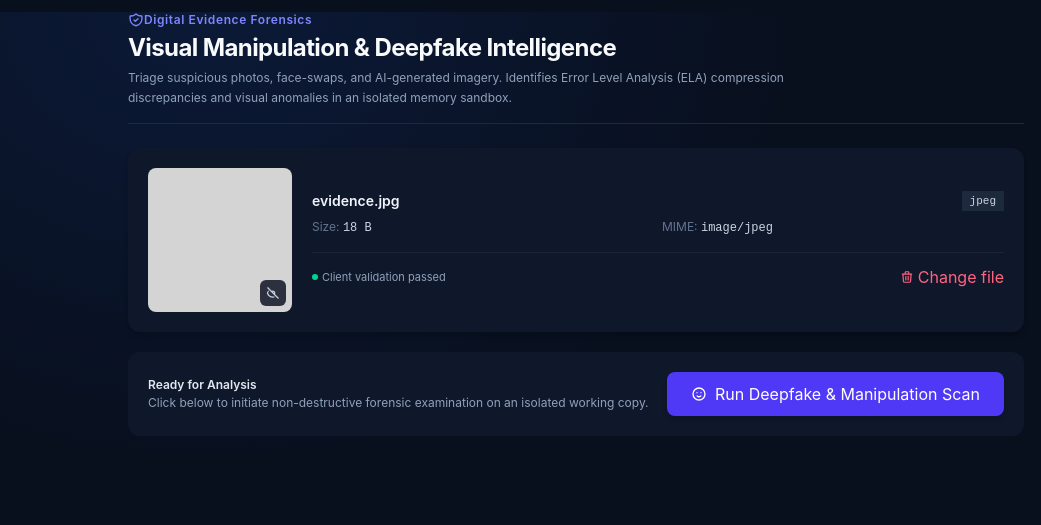
SafeImageAnalysisWorkflow Component › handles 429 rate limit / inference capacity gracefully
This screenshot has width=1041, height=525.
Earlier steps of the test are not shown.
Click the button "Run Deepfake & Manipulation Scan" at (836, 394), box [667, 372, 1004, 416]
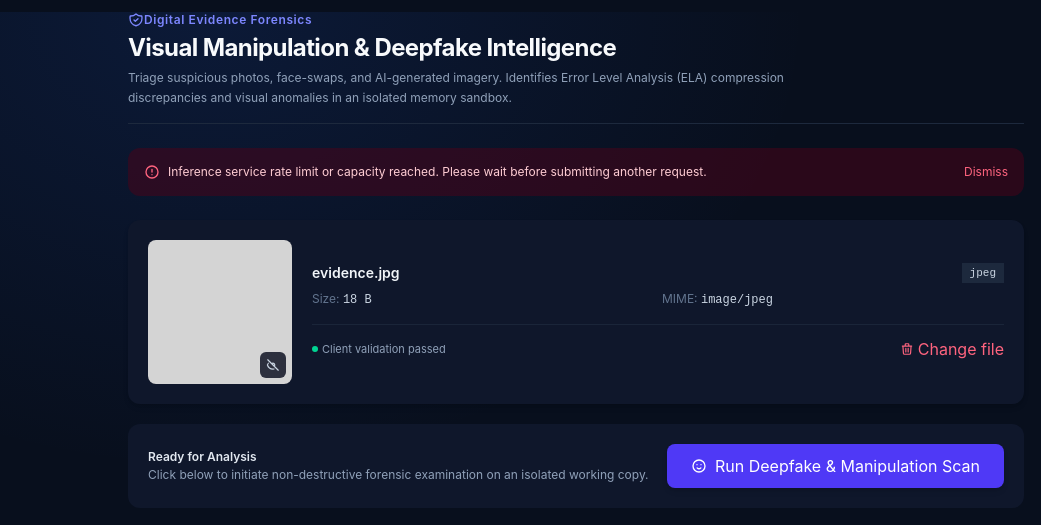
expect the message shows "Inference service rate limit or capacity reached. Please wait before submitting another request": met, box [168, 164, 707, 179]
